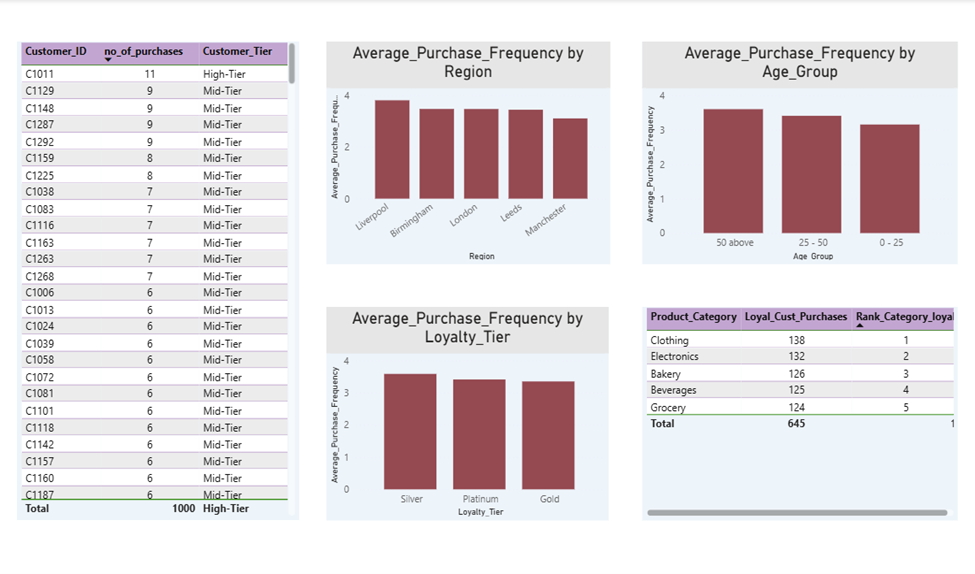

The page's visual inventory and layout, read from the dashboard file:
{"tool":"powerbi","page":{"name":"Task 3","canvas":[1280,720],"ordinal":1},"visuals":[{"type":"tableEx","fields":{"Values":["Customer_Transactions.Customer_ID","Calculation_Dump.no_of_purchases","Calculation_Dump.Customer_Tier"]},"box":[22.7,52.9,368.5,597.2],"z":0},{"type":"columnChart","fields":{"Category":["Customer_Demographics.Region"],"Y":["Calculation_Dump.Average_Purchase_Frequency"]},"box":[427.1,52.9,370.4,277.8],"z":1000},{"type":"columnChart","fields":{"Category":["Customer_Demographics.Age_Group"],"Y":["Calculation_Dump.Average_Purchase_Frequency"]},"box":[839.1,52.9,412,277.8],"z":2000},{"type":"columnChart","fields":{"Category":["Loyalty_Program.Loyalty_Tier"],"Y":["Calculation_Dump.Average_Purchase_Frequency"]},"box":[427.1,383.6,368.5,266.5],"z":3000},{"type":"tableEx","fields":{"Values":["Customer_Transactions.Product_Category","Calculation_Dump.Loyal_Cust_Purchases","Calculation_Dump.Rank_Catogory_loyal"]},"box":[839.1,383.6,412,266.5],"z":4000}]}

Visuals, with their boxes on the page's 1280x720 design canvas (x1, y1, x2, y2). These are canvas units, not pixel positions in the 975x574 screenshot, which may show the page scaled, cropped or inside an application window:
tableEx - Customer_Transactions.Customer_ID x Calculation_Dump.no_of_purchases: detection(23, 53, 391, 650)
columnChart - Customer_Demographics.Region x Calculation_Dump.Average_Purchase_Frequency: detection(427, 53, 798, 331)
columnChart - Customer_Demographics.Age_Group x Calculation_Dump.Average_Purchase_Frequency: detection(839, 53, 1251, 331)
columnChart - Loyalty_Program.Loyalty_Tier x Calculation_Dump.Average_Purchase_Frequency: detection(427, 384, 796, 650)
tableEx - Customer_Transactions.Product_Category x Calculation_Dump.Loyal_Cust_Purchases: detection(839, 384, 1251, 650)
